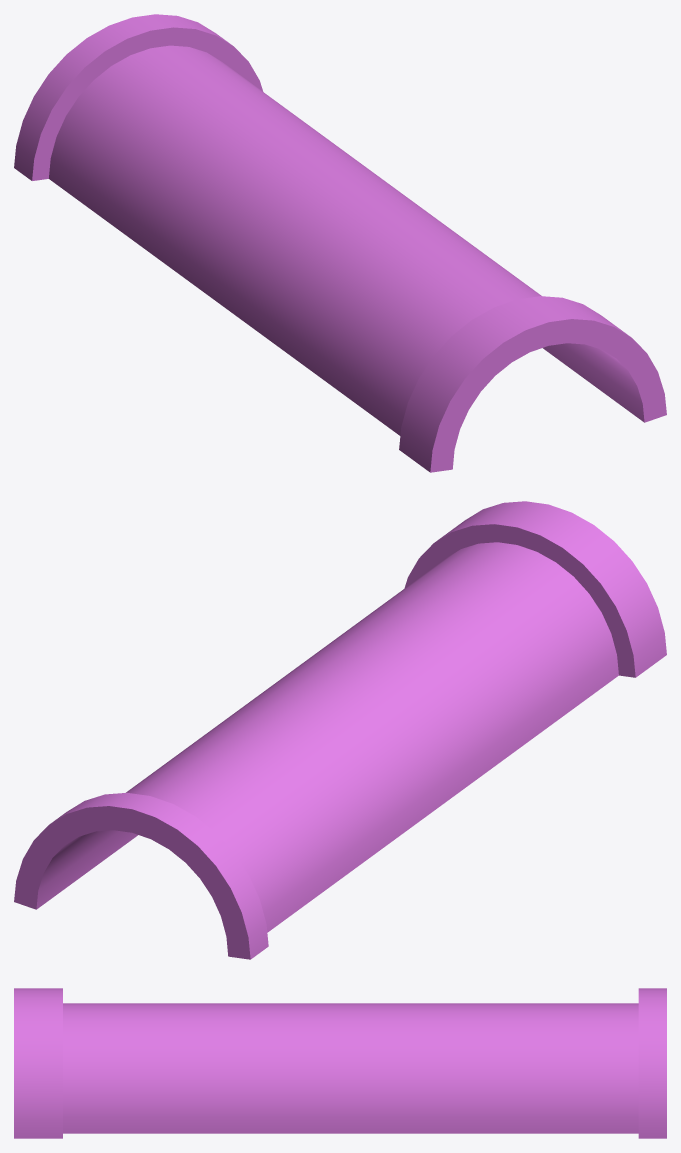
File: tunnel.fbx
The picture shows the model from 3 angles, top to bottom: view 1: azimuth 30°, elevation 25°; view 2: azimuth 150°, elevation 25°; view 3: azimuth 270°, elevation 25°; orthographic projection. The views are drawn at different scales.
Parts seen in each view (by area): view 1: Tunnel; view 2: Tunnel; view 3: Tunnel.
Part boxes in pixels (bbox=[...]): Tunnel: bbox=[14, 14, 666, 472]; Tunnel: bbox=[14, 501, 666, 959]; Tunnel: bbox=[14, 988, 666, 1138].
Size of the model in its own units: 802 by 402 by 2445.
